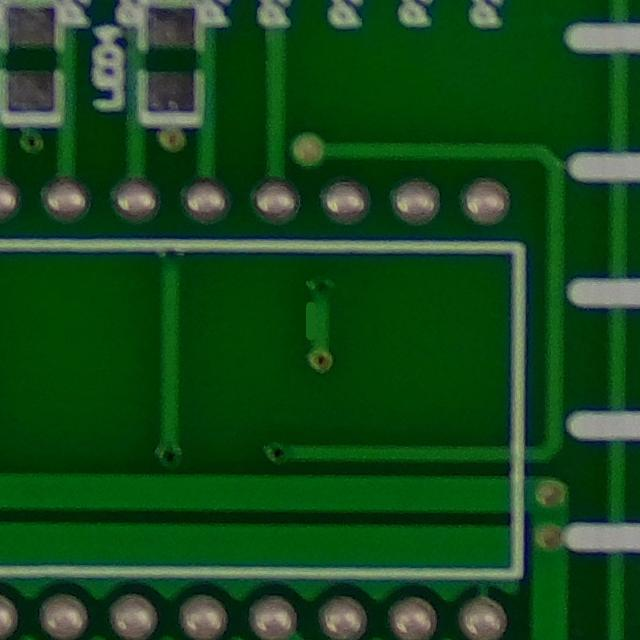spur: (288, 290, 353, 350)
